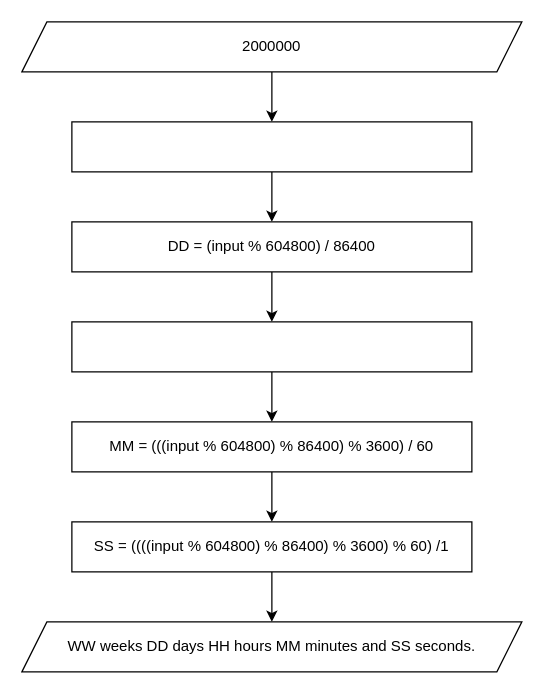
This 544x694 diagram has some shape labels left out. The shapes that lost their labels are listed below. From the top down, each one's centre as x and y in pixels, then its label:
At point (271, 146): "WW = input / 604800".
At point (271, 346): "HH = ((input % 604800) % 86400) / 3600".
